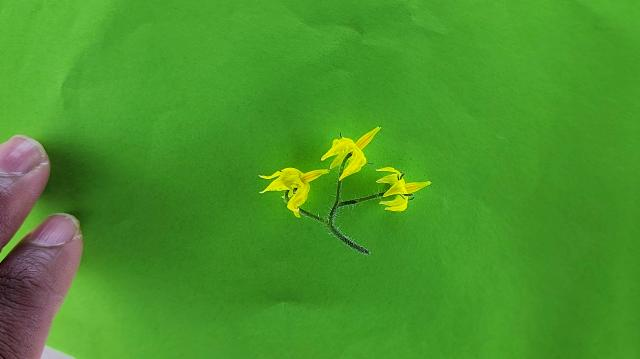Anthesis: (256, 165, 330, 218), (320, 126, 381, 183), (373, 166, 431, 211)
